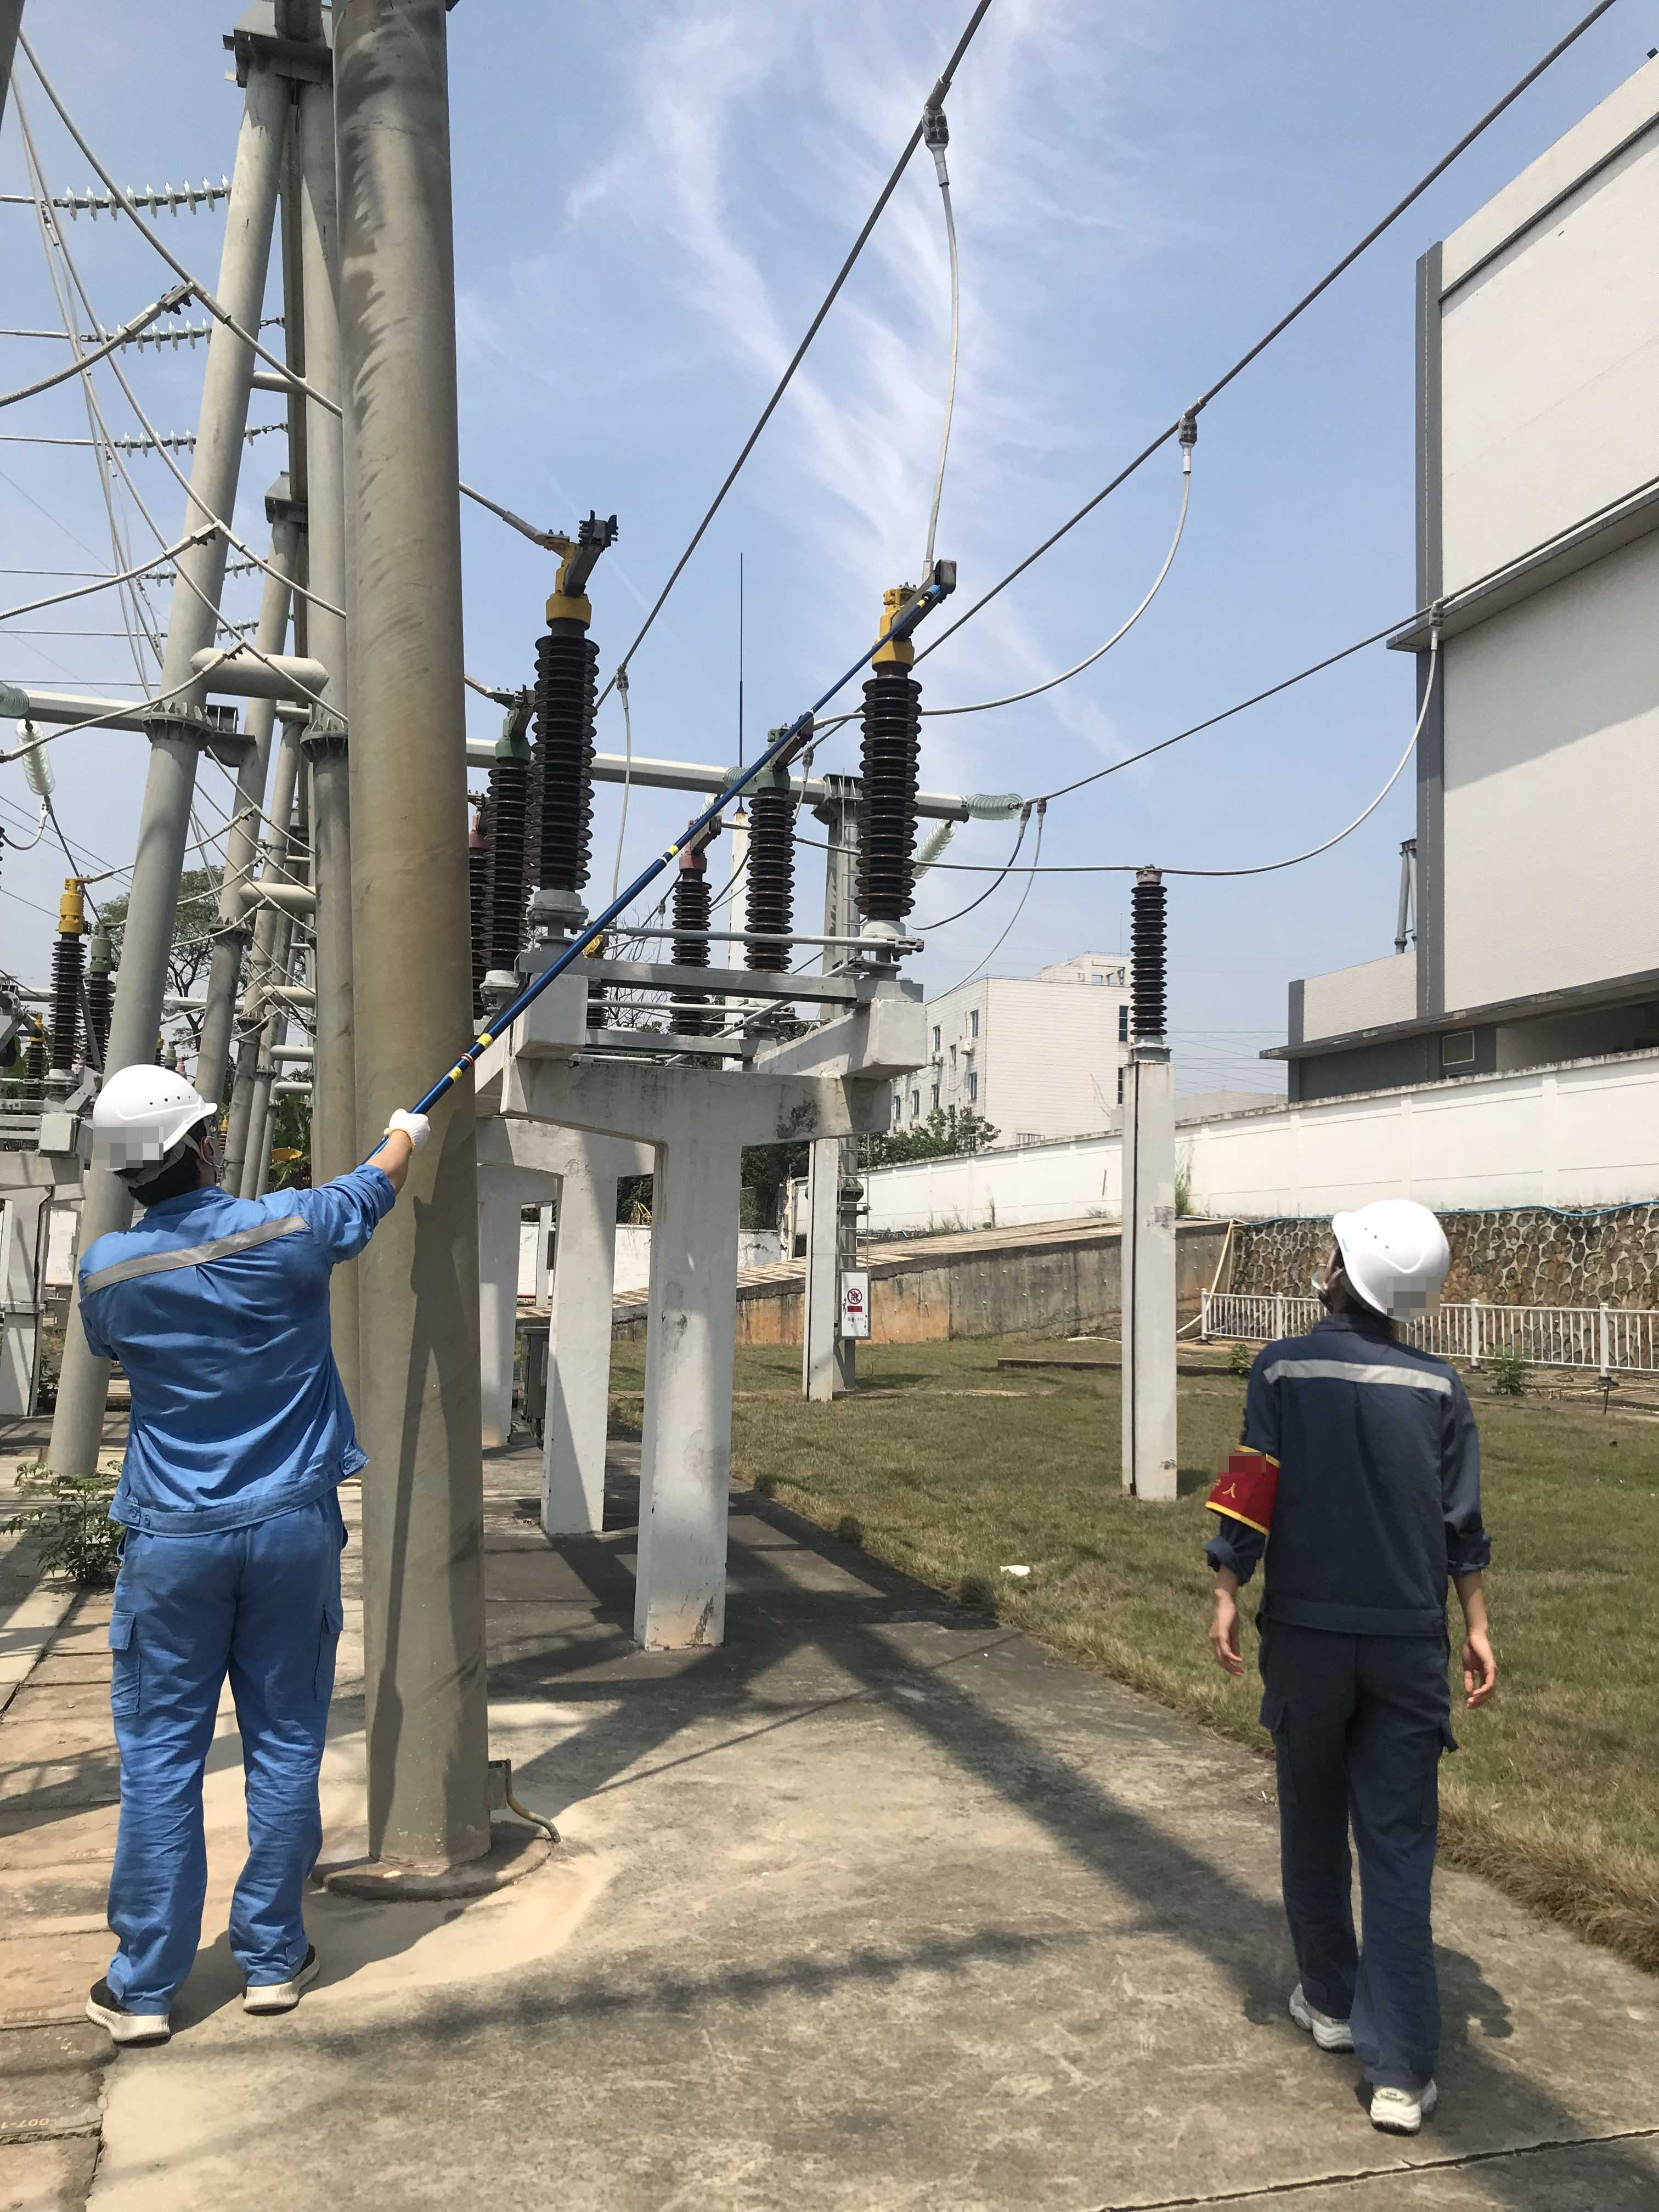downsuit: (89, 1552, 357, 1989), (1260, 1669, 1457, 2085)
upsuit: (71, 1170, 394, 1526), (1197, 1317, 1502, 1641)
wrongtop: (1450, 1540, 1500, 1709), (1201, 1529, 1256, 1679), (361, 1127, 418, 1204)
